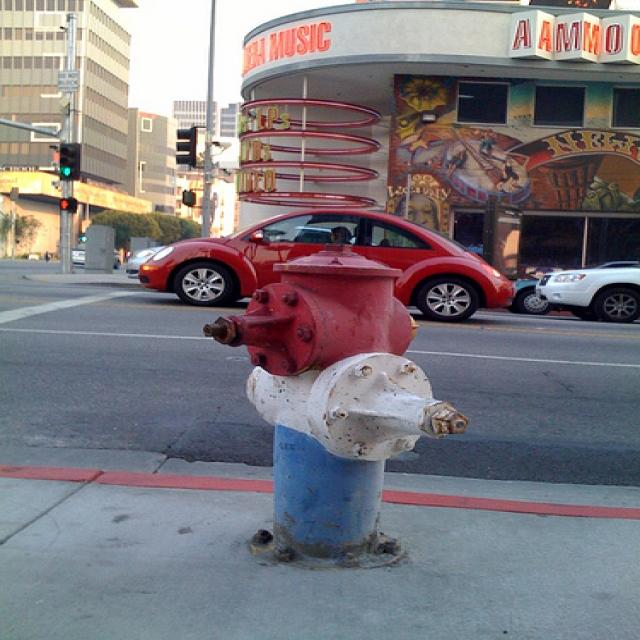Vehicle: (139, 206, 516, 322), (534, 260, 639, 323), (509, 279, 554, 316), (126, 244, 168, 278)
